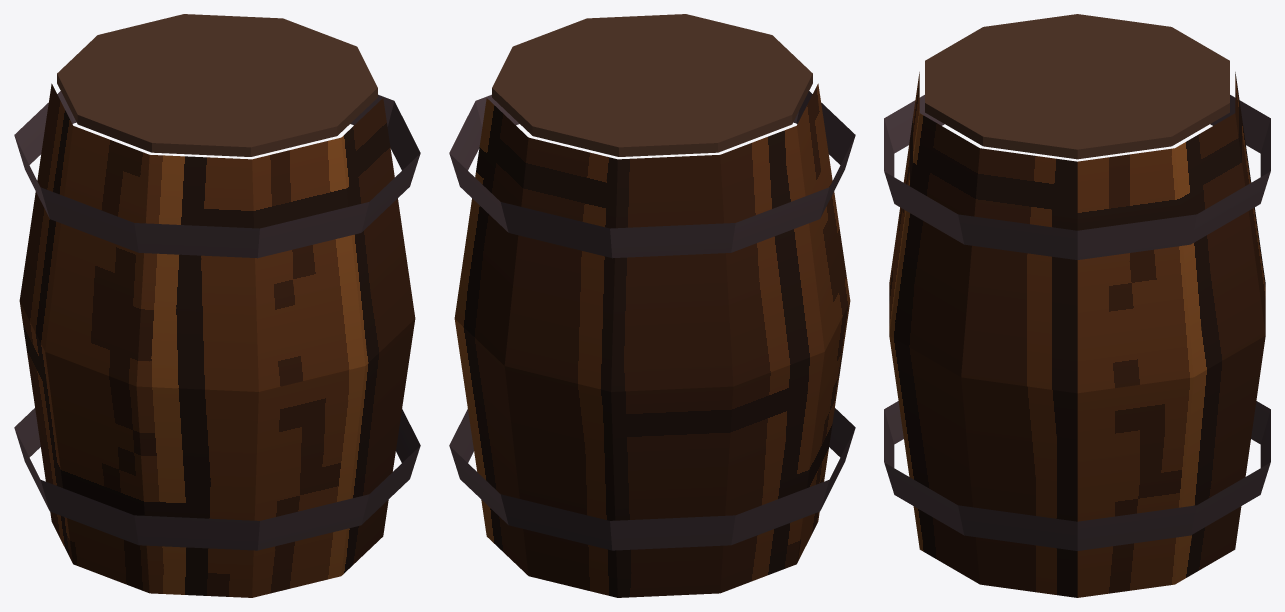
Rendered from barrel.glb.
3 renders of one model, left to right at view 1: azimuth 30°, elevation 25°; view 2: azimuth 150°, elevation 25°; view 3: azimuth 270°, elevation 25°, orthographic.
Parts seen in each view (by area): view 1: barrel; view 2: barrel; view 3: barrel.
Boxes of the visible parts, bbox=[...] form: barrel: bbox=[14, 14, 420, 597]; barrel: bbox=[449, 14, 855, 597]; barrel: bbox=[884, 14, 1270, 597].
Size of the model in its own units: 0.76 by 0.92 by 0.7228.
2 materials, 1 textured.
